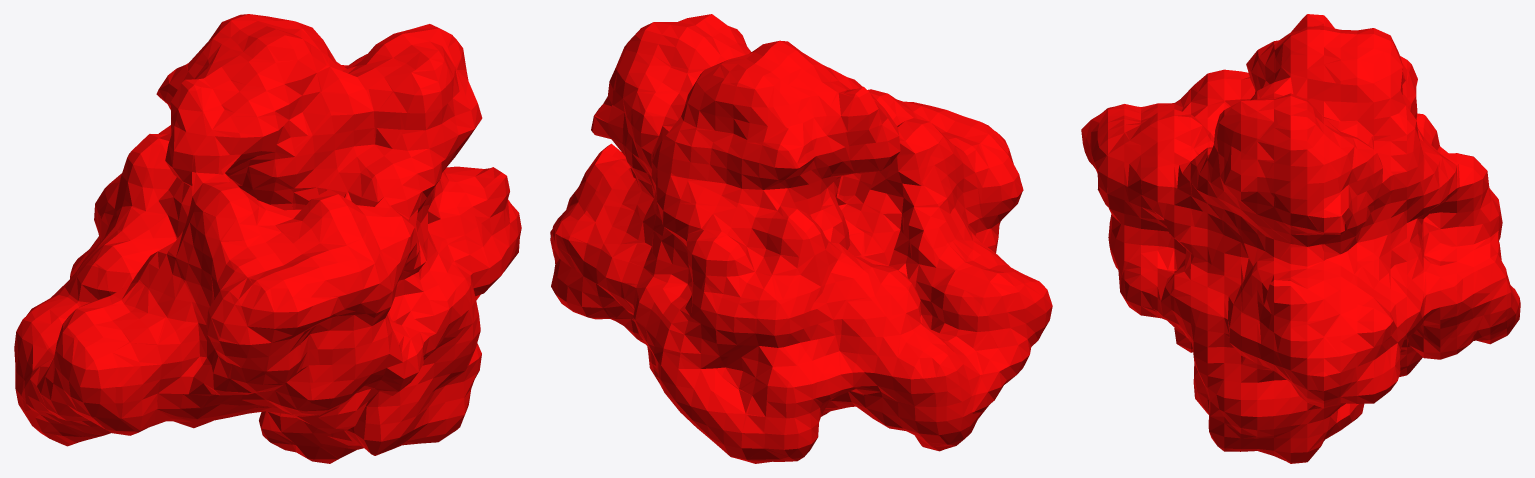
Rendered from sucA_coarse.dae.
The picture shows the model from 3 angles, left to right: view 1: azimuth 30°, elevation 25°; view 2: azimuth 150°, elevation 25°; view 3: azimuth 270°, elevation 25°; orthographic projection. The views are drawn at different scales.
Parts seen in each view (by area): view 1: sucA; view 2: sucA; view 3: sucA.
Boxes of the visible parts, <box> form: sucA: <box>14,14,521,463</box>; sucA: <box>550,14,1052,463</box>; sucA: <box>1081,14,1520,463</box>.
Bounding box in the file's own units: 117 × 98.3 × 97.98.
